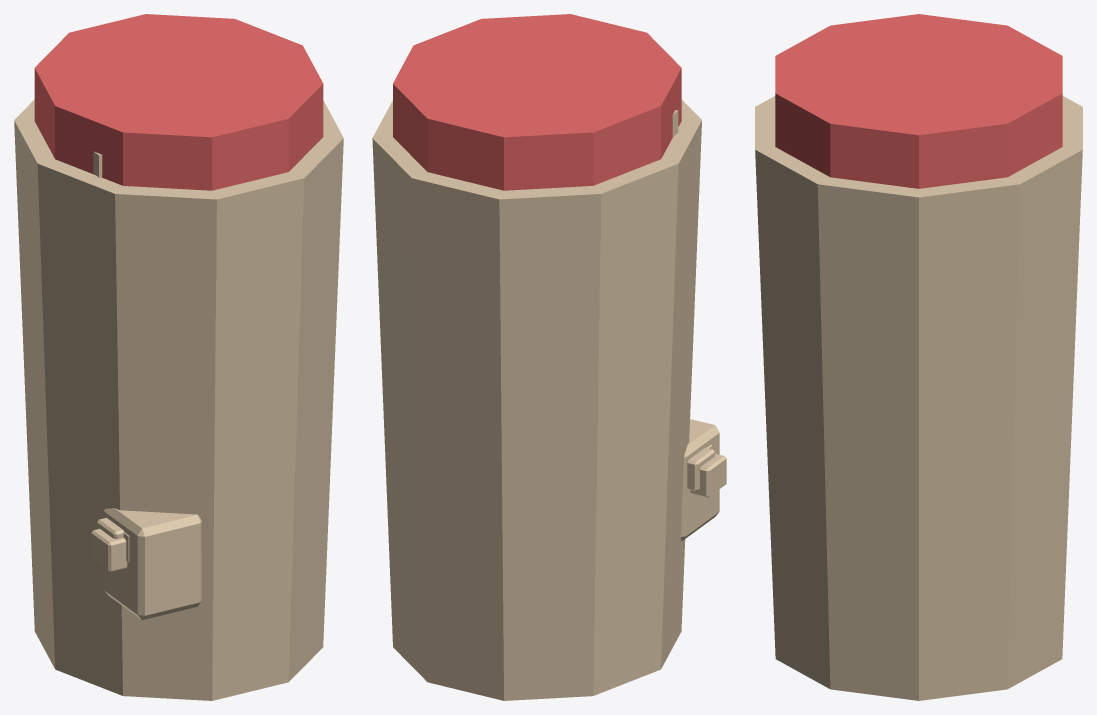
The model's file is b16_waffle_ice_cream_cone.glb.
The picture shows the model from 3 angles, left to right: view 1: azimuth 30°, elevation 25°; view 2: azimuth 150°, elevation 25°; view 3: azimuth 270°, elevation 25°; orthographic projection.
Visible parts, largest first — view 1: b16_waffle_ice_cream_cone; view 2: b16_waffle_ice_cream_cone; view 3: b16_waffle_ice_cream_cone.
Part boxes in pixels (x1=…): b16_waffle_ice_cream_cone: x1=14, y1=14, x2=343, y2=700; b16_waffle_ice_cream_cone: x1=372, y1=14, x2=726, y2=700; b16_waffle_ice_cream_cone: x1=755, y1=14, x2=1082, y2=700.
Bounding box in the file's own units: 0.084 × 0.16 × 0.084.
